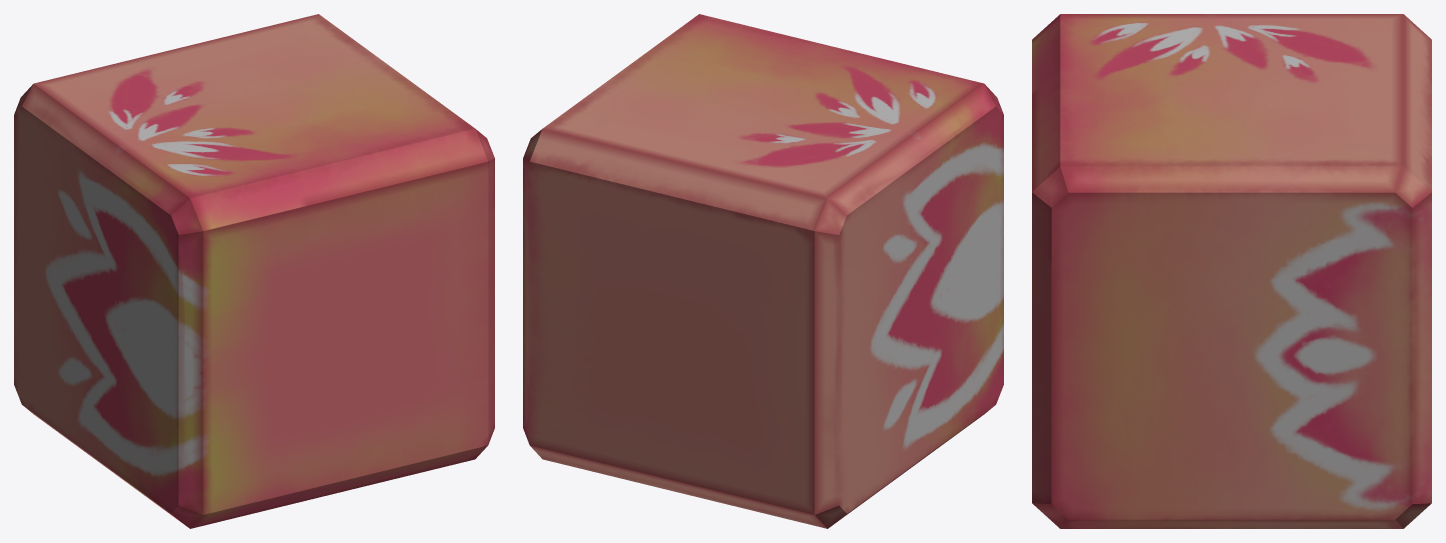
File: bird_totem2_body.fbx
3 renders of one model, left to right at view 1: azimuth 30°, elevation 25°; view 2: azimuth 150°, elevation 25°; view 3: azimuth 270°, elevation 25°, orthographic. The views are drawn at different scales.
Visible parts, largest first — view 1: Cube.003; view 2: Cube.003; view 3: Cube.003.
Boxes of the visible parts, <box> form: Cube.003: <box>14,14,494,528</box>; Cube.003: <box>523,14,1003,528</box>; Cube.003: <box>1032,14,1431,528</box>.
Bounding box in the file's own units: 100 × 100 × 100.
Materials: 1 (1 with a texture image).
